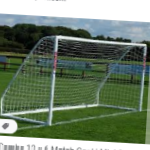goals: (1, 34, 148, 129)
